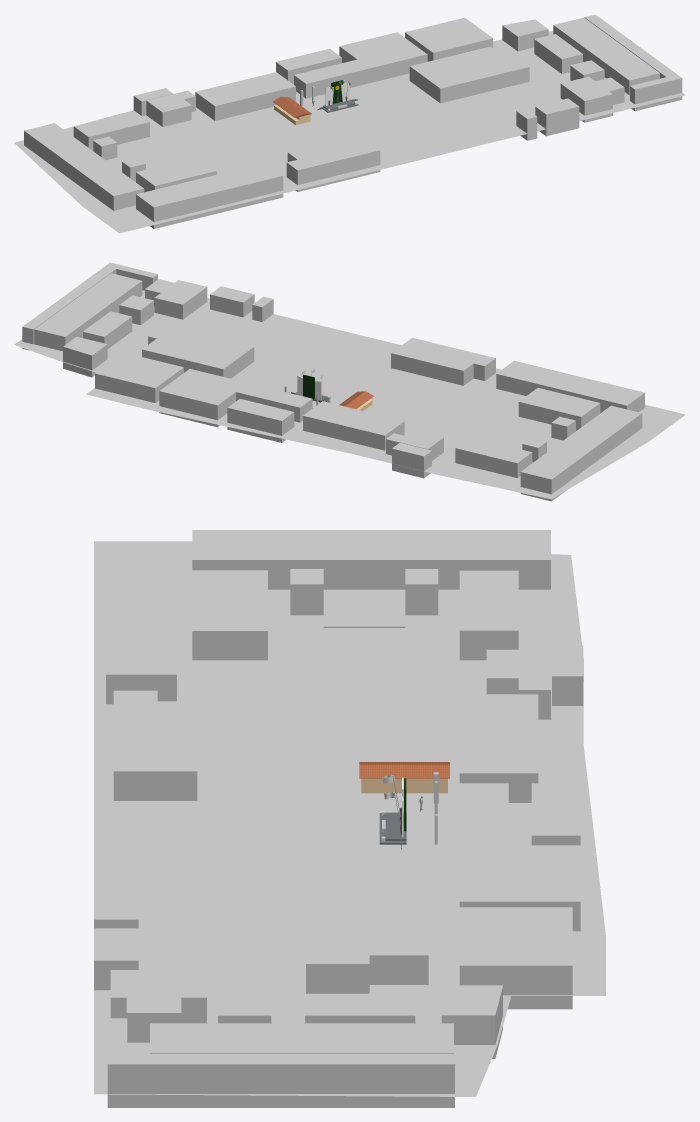
The model's file is compund.glb.
3 renders of one model, top to bottom at view 1: azimuth 30°, elevation 25°; view 2: azimuth 150°, elevation 25°; view 3: azimuth 270°, elevation 25°, orthographic. The views are drawn at different scales.
Parts seen in each view (by area): view 1: Plane, Cube.020, Cube.021, Cube.007, Cube.004, Cube.019, Cube.008, Cube.003, Cube.005, Cube.012, Cube.011, Cube.016 (+11 smaller); view 2: Plane, Cube.021, Cube.004, Cube.007, Cube.020, Cube.008, Cube.019, Cube.003, Cube.005, Cube.022, Cube.016, Cube.006 (+10 smaller); view 3: Plane, Cube.012, Cube.021, Cube.007, Cube.004, Cube.005, Cube.020, Cube.008, Cube.019, Cube.003, Cube.022, Cube.011 (+13 smaller).
Part boxes in pixels (x1=…): Plane: x1=14, y1=31, x2=685, y2=233; Cube.020: x1=136, y1=163, x2=283, y2=228; Cube.021: x1=24, y1=123, x2=144, y2=210; Cube.007: x1=409, y1=46, x2=529, y2=103; Cube.004: x1=294, y1=32, x2=427, y2=98; Cube.019: x1=286, y1=135, x2=380, y2=191; Cube.008: x1=553, y1=17, x2=659, y2=95; Cube.003: x1=195, y1=72, x2=295, y2=120; Cube.005: x1=405, y1=17, x2=492, y2=61; Cube.012: x1=584, y1=14, x2=682, y2=111; Cube.011: x1=560, y1=76, x2=624, y2=122; Cube.016: x1=73, y1=111, x2=149, y2=150; Plane: x1=14, y1=290, x2=685, y2=499; Cube.021: x1=520, y1=405, x2=642, y2=501; Cube.004: x1=159, y1=369, x2=312, y2=427; Cube.007: x1=142, y1=324, x2=254, y2=378; Cube.020: x1=496, y1=360, x2=644, y2=413; Cube.008: x1=34, y1=273, x2=142, y2=351; Cube.019: x1=391, y1=337, x2=495, y2=385; Cube.003: x1=303, y1=401, x2=404, y2=450; Cube.005: x1=95, y1=352, x2=183, y2=402; Cube.022: x1=518, y1=388, x2=600, y2=430; Cube.016: x1=455, y1=437, x2=532, y2=478; Cube.006: x1=227, y1=399, x2=294, y2=442; Plane: x1=94, y1=541, x2=605, y2=1096; Cube.012: x1=107, y1=1018, x2=454, y2=1107; Cube.021: x1=192, y1=530, x2=550, y2=589; Cube.007: x1=306, y1=876, x2=428, y2=993; Cube.004: x1=459, y1=783, x2=580, y2=931; Cube.005: x1=459, y1=907, x2=572, y2=1009; Cube.020: x1=106, y1=548, x2=176, y2=704; Cube.008: x1=150, y1=1023, x2=453, y2=1053; Cube.019: x1=113, y1=690, x2=197, y2=800; Cube.003: x1=459, y1=694, x2=538, y2=802; Cube.022: x1=192, y1=570, x2=267, y2=660; Cube.011: x1=110, y1=970, x2=206, y2=1042.
Size of the model in its own units: 151 by 13.65 by 58.97.
11 materials, 1 textured.
